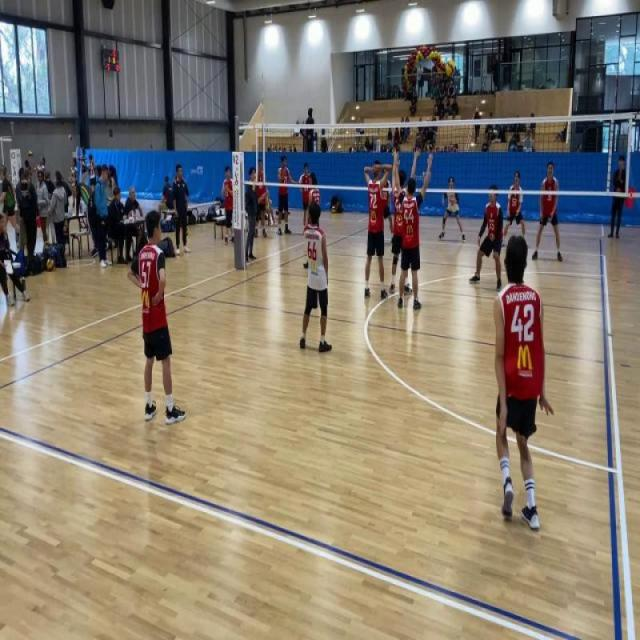volleyball: (444, 58, 456, 78), (46, 258, 55, 272), (27, 148, 34, 160), (67, 177, 74, 184), (186, 226, 190, 237), (331, 206, 336, 214), (68, 134, 72, 142)
